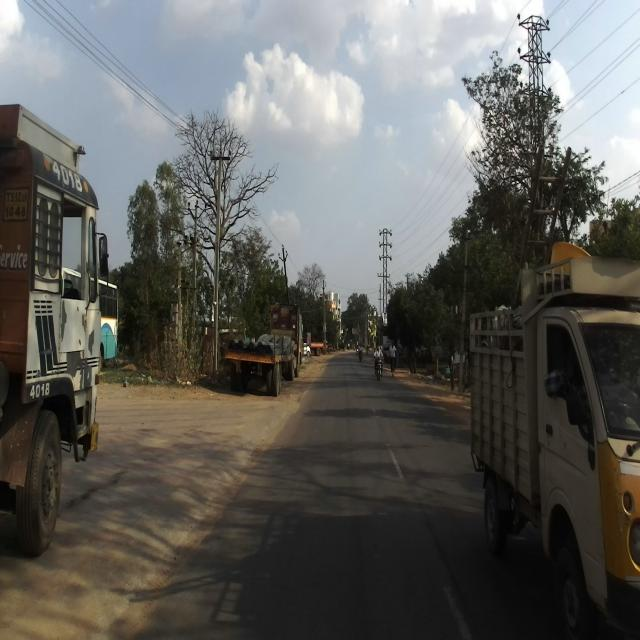truck: (470, 255, 638, 639)
